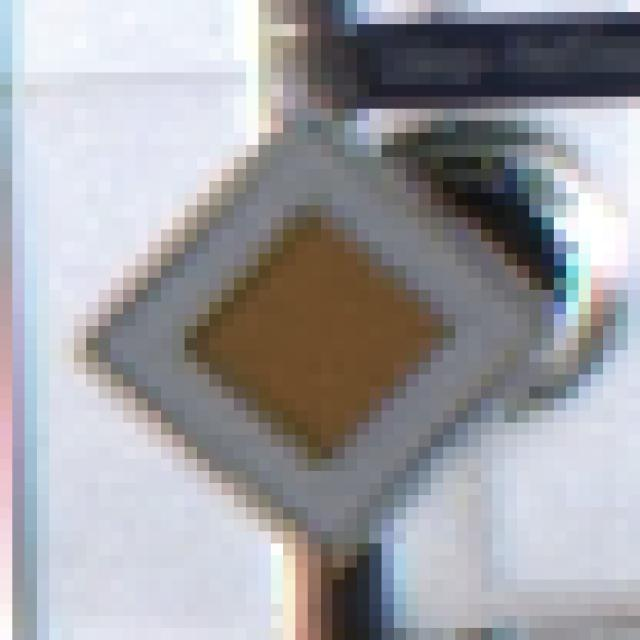Main Road: (63, 62, 580, 581)
